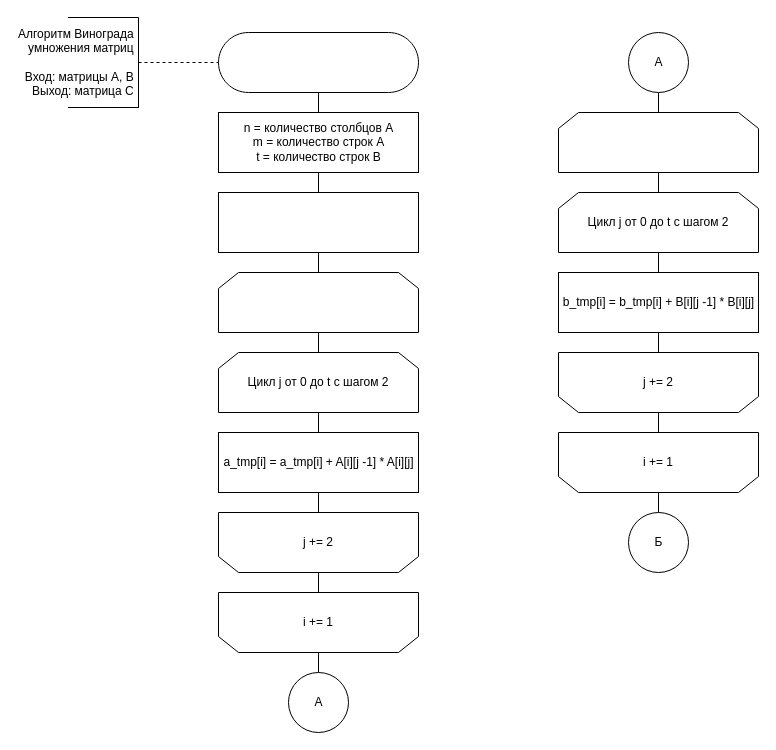
The diagram is 776 pixels wide and 750 high, and some of its shapes have lost their labels. Each missing label, with the box of its shape:
Начало: (218, 32, 418, 92)
Создать доп массивы a_tmp длиной n, b_tmp длиной m: (218, 192, 418, 252)
Цикл i от 0 до m: (558, 112, 758, 172)
Цикл i от 0 до n: (218, 272, 418, 332)
